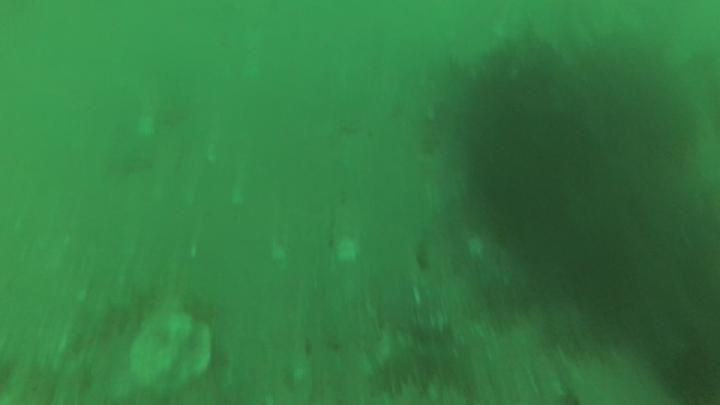holothurian: (368, 346, 475, 394), (84, 287, 163, 344)
scallop: (129, 304, 215, 395)
